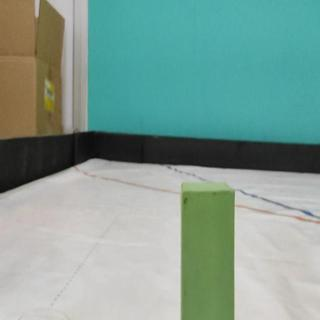greenbox: (181, 183, 234, 320)
